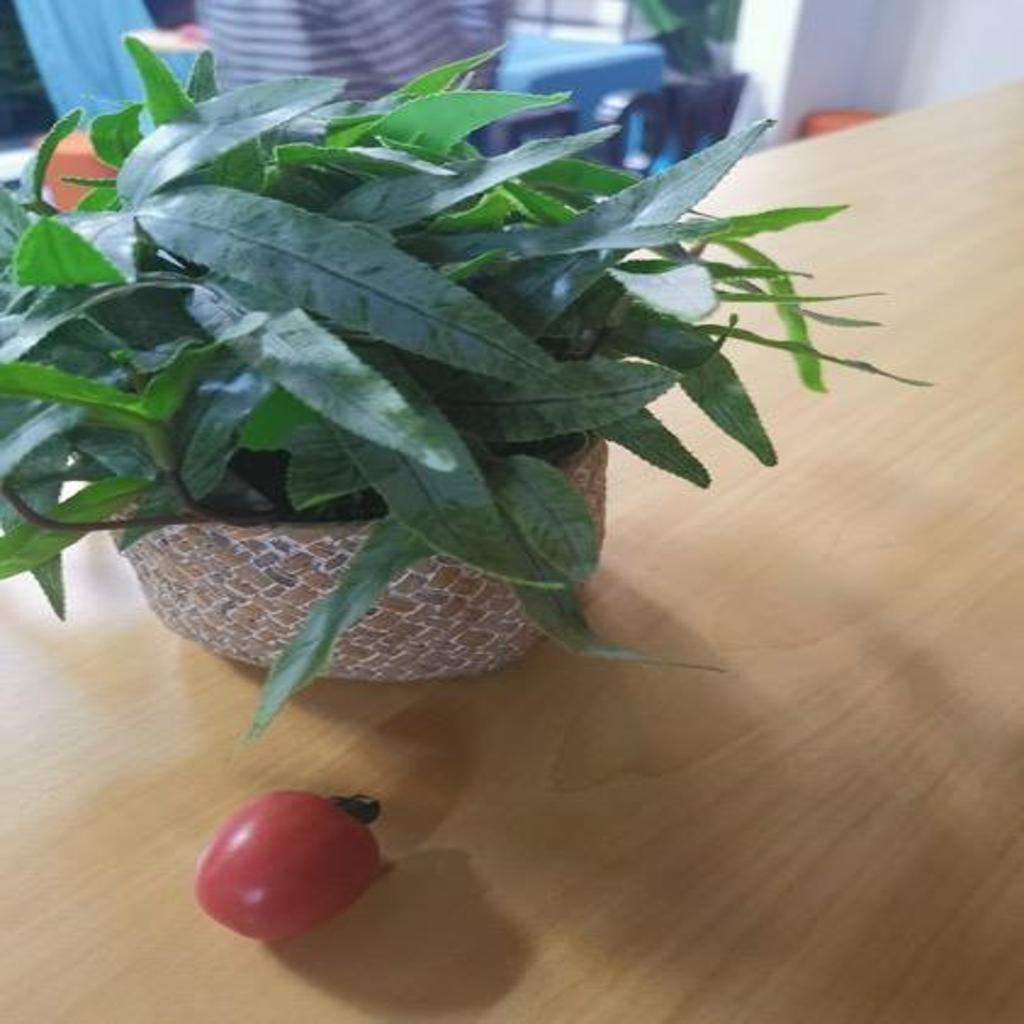tomato: (193, 779, 388, 945)
